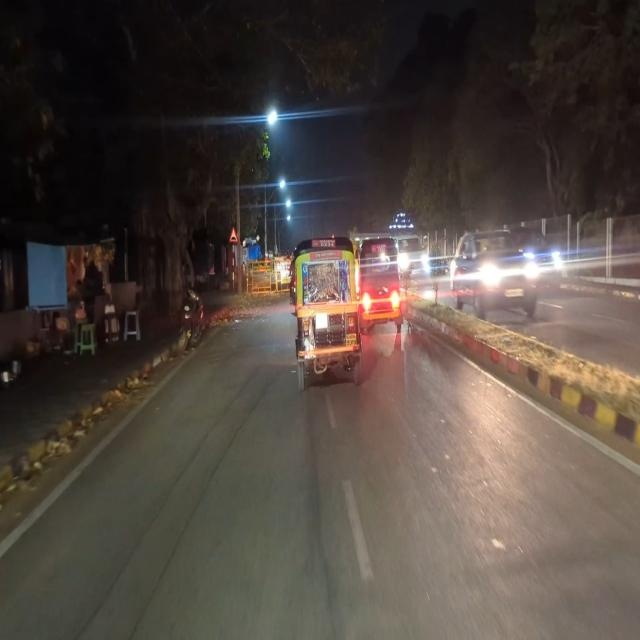bien_nguy_hiem: (228, 225, 238, 244)
